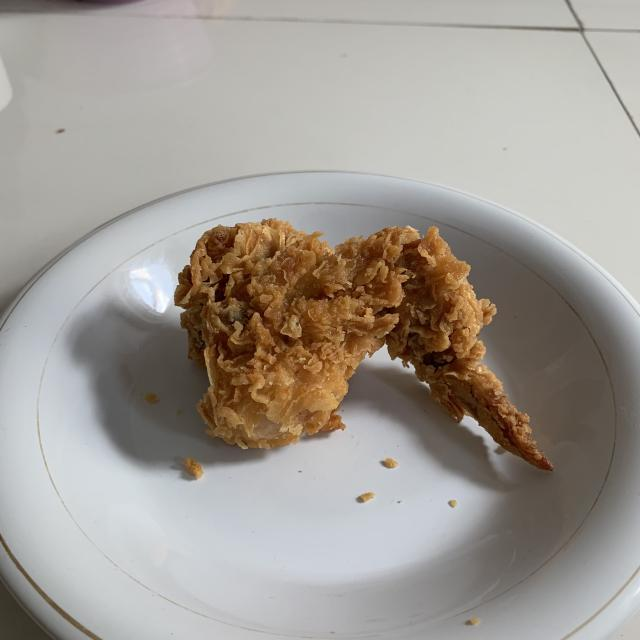Frango: (174, 214, 554, 476)
